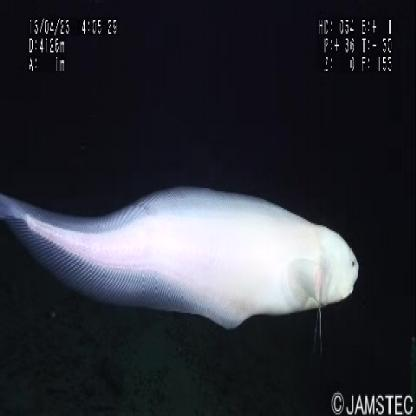Bio: (1, 185, 360, 331)
